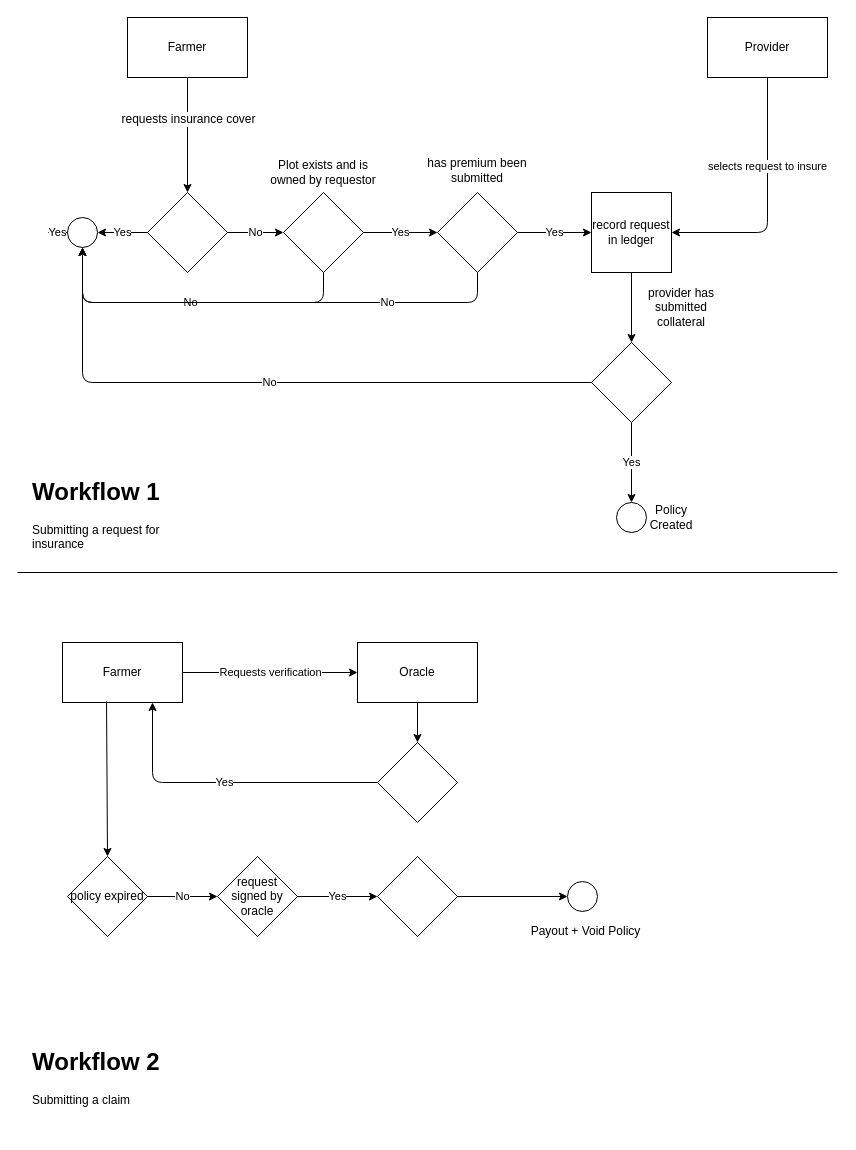
The diagram is 856 pixels wide and 1150 high, and some of its shapes have lost their labels. Here are the shapes that lost their labels. From the top down, the centre of each, then its label:
At point (187, 232): "plot insured already?".
At point (417, 782): "claim is valid".
At point (417, 896): "requestor is policy owner".
